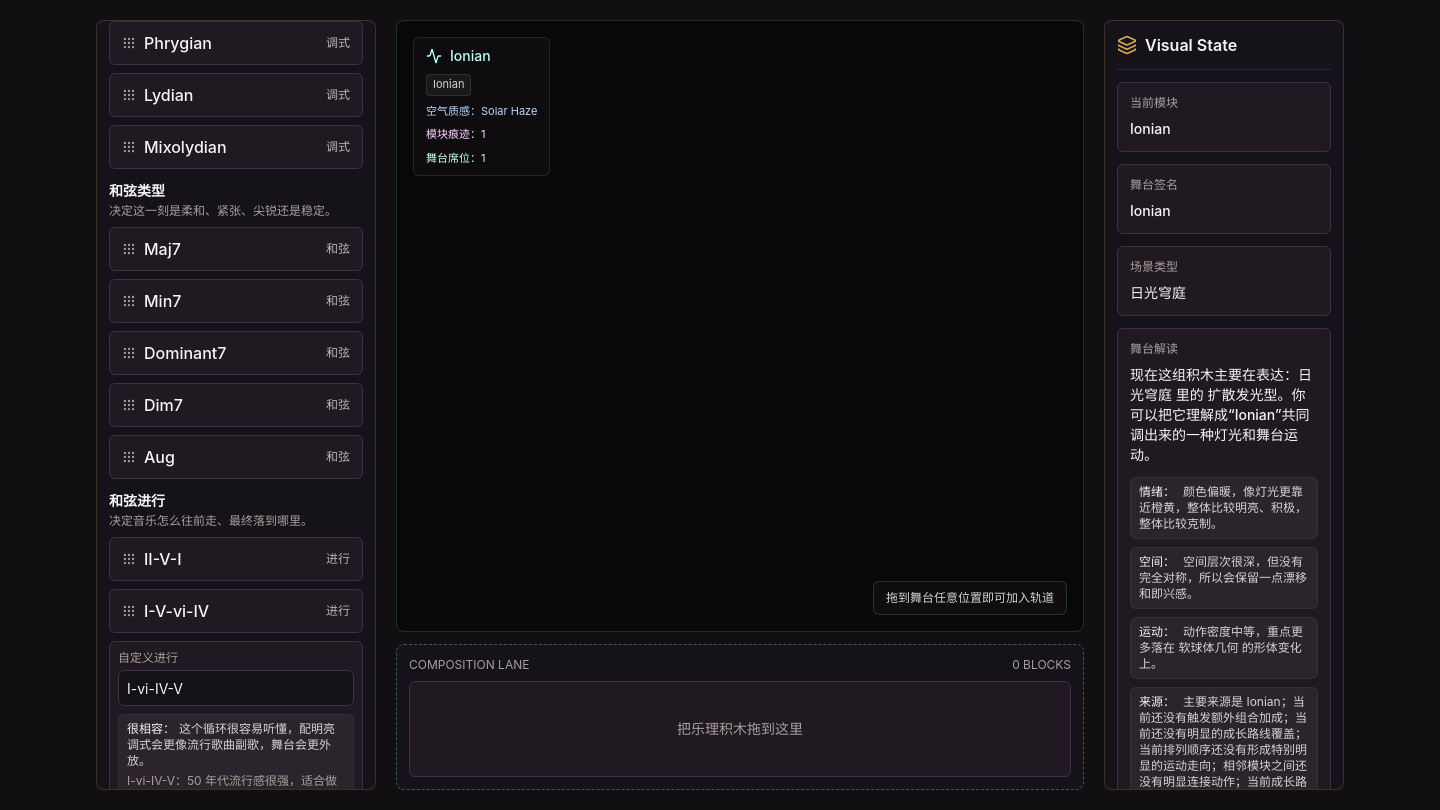
Test case: TheorySandbox › updates visual readout when a theory element is selected
(page scrolled)
Click the button "Dim7 和弦".
click(236, 405)  # box [109,383,363,427]
(page scrolled)
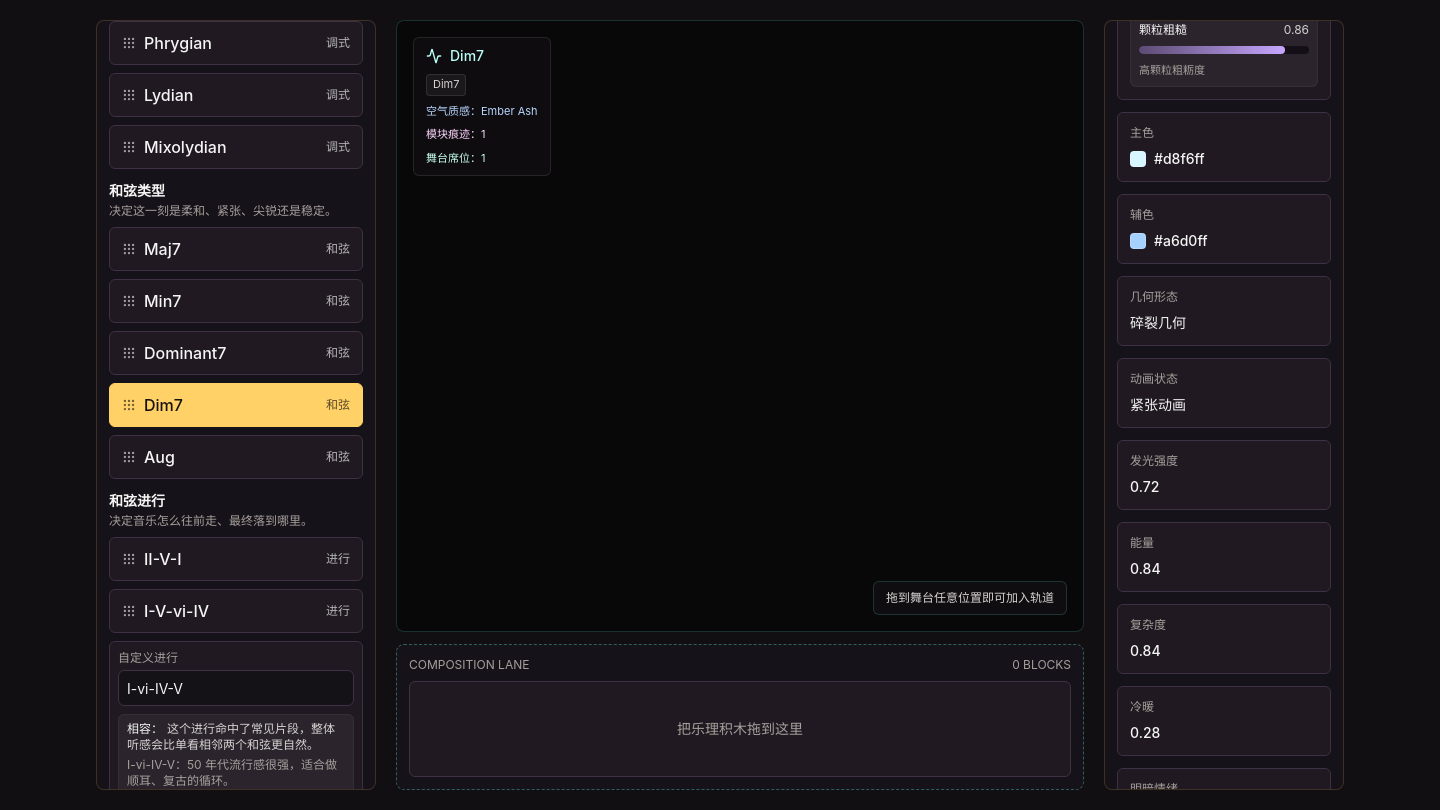
Check: the text "Dim7" is shown, box [122,393,183,417]
Check: the text "碎裂几何" is shown, box [1130,313,1186,333]
Check: the text "紧张动画" is shown, box [1130,395,1186,415]
